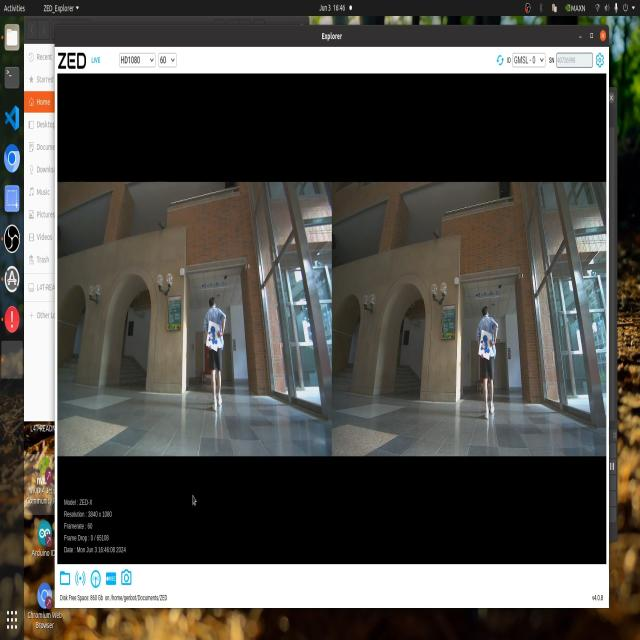blue: (480, 331, 496, 362), (208, 325, 221, 358)
